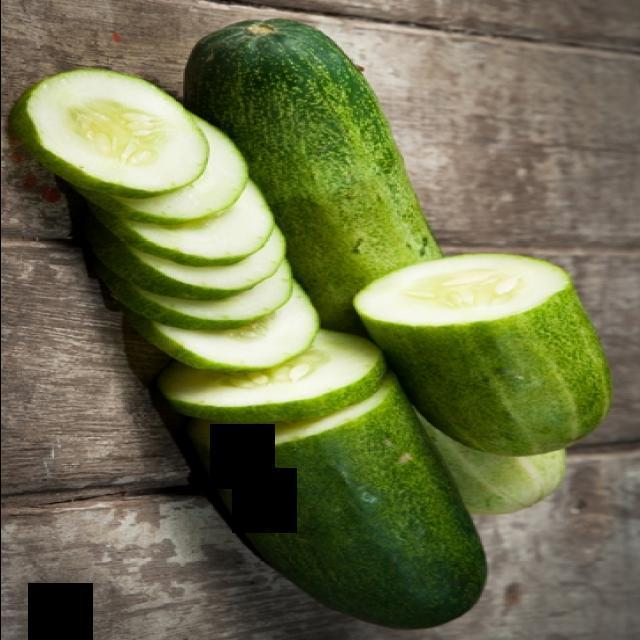cucumber: (30, 15, 632, 630), (116, 36, 322, 382), (368, 234, 612, 496), (32, 52, 212, 214)
